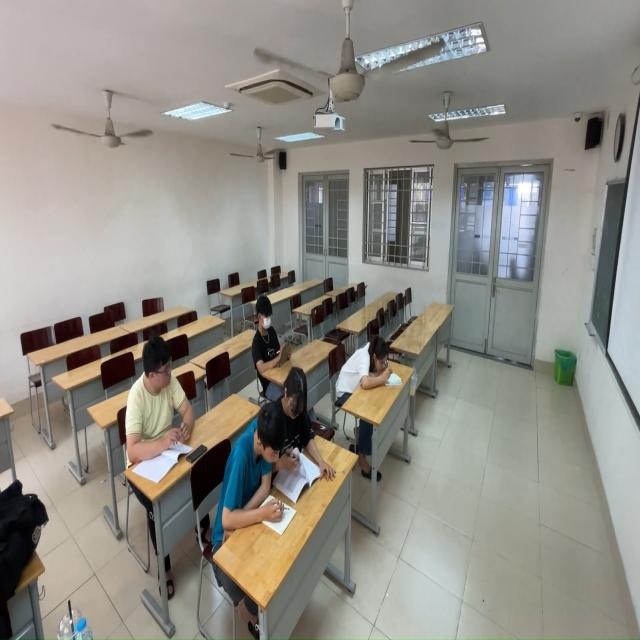read: (206, 389, 289, 552), (122, 334, 209, 471), (261, 359, 334, 484), (340, 303, 399, 399), (248, 291, 304, 375)
